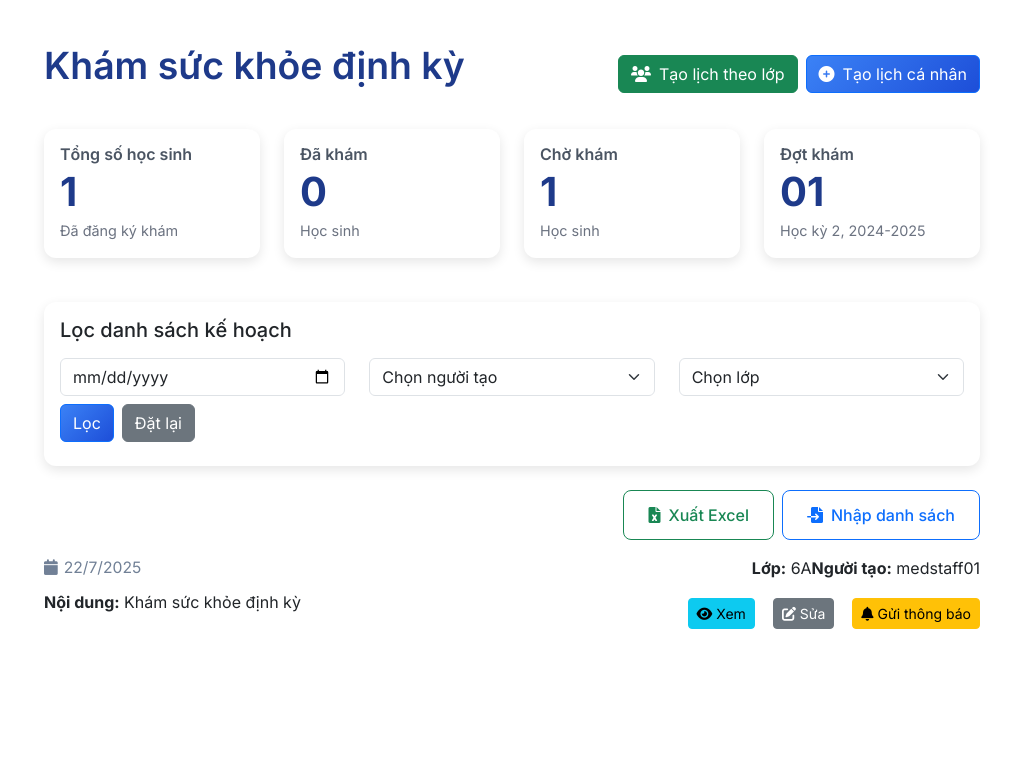
Test: HealthCheckManagement Main Flow › opens edit modal when clicking edit button
Click the button with test id "edit-plan-btn-plan1".
click(804, 613)  # box x1=773 y1=598 x2=834 y2=629
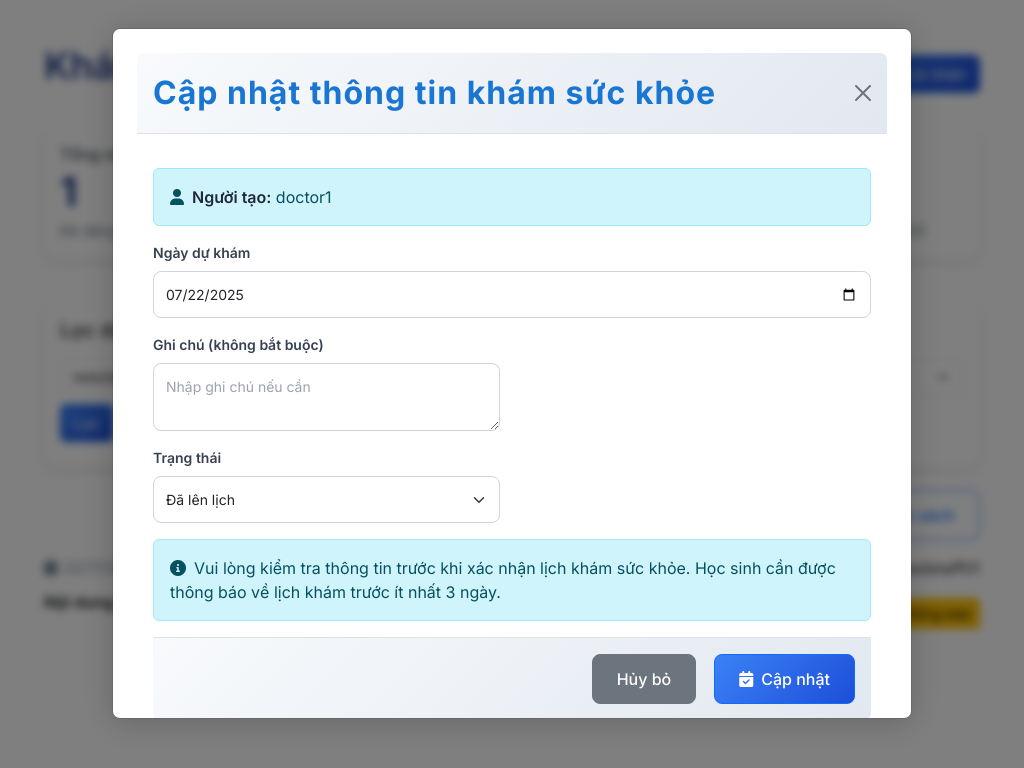
Now the element with test id "edit-plan-modal" is shown
Now the heading with test id "edit-plan-title" reads "Cập nhật thông tin khám sức khỏe", box x1=153 y1=73 x2=716 y2=112
